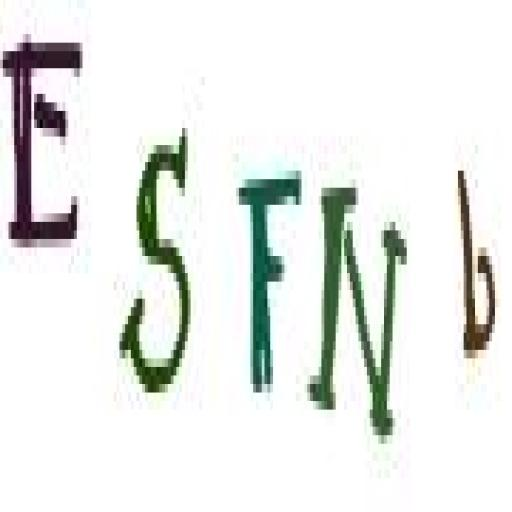E: (5, 22, 86, 257)
F: (233, 158, 301, 402)
N: (308, 169, 400, 446)
b: (450, 144, 499, 356)
s: (118, 130, 200, 404)
